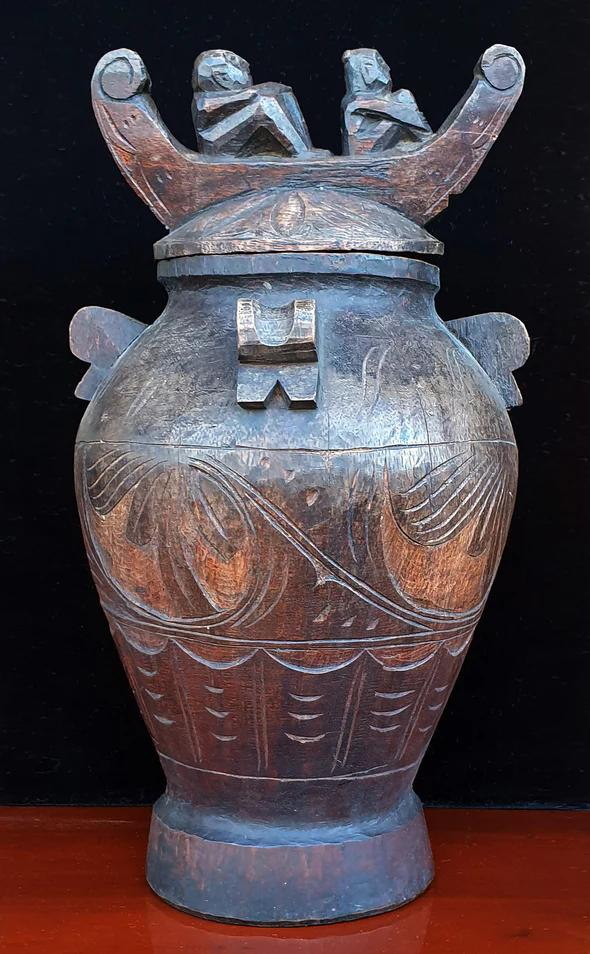manunggul_jar: (29, 24, 546, 934)
